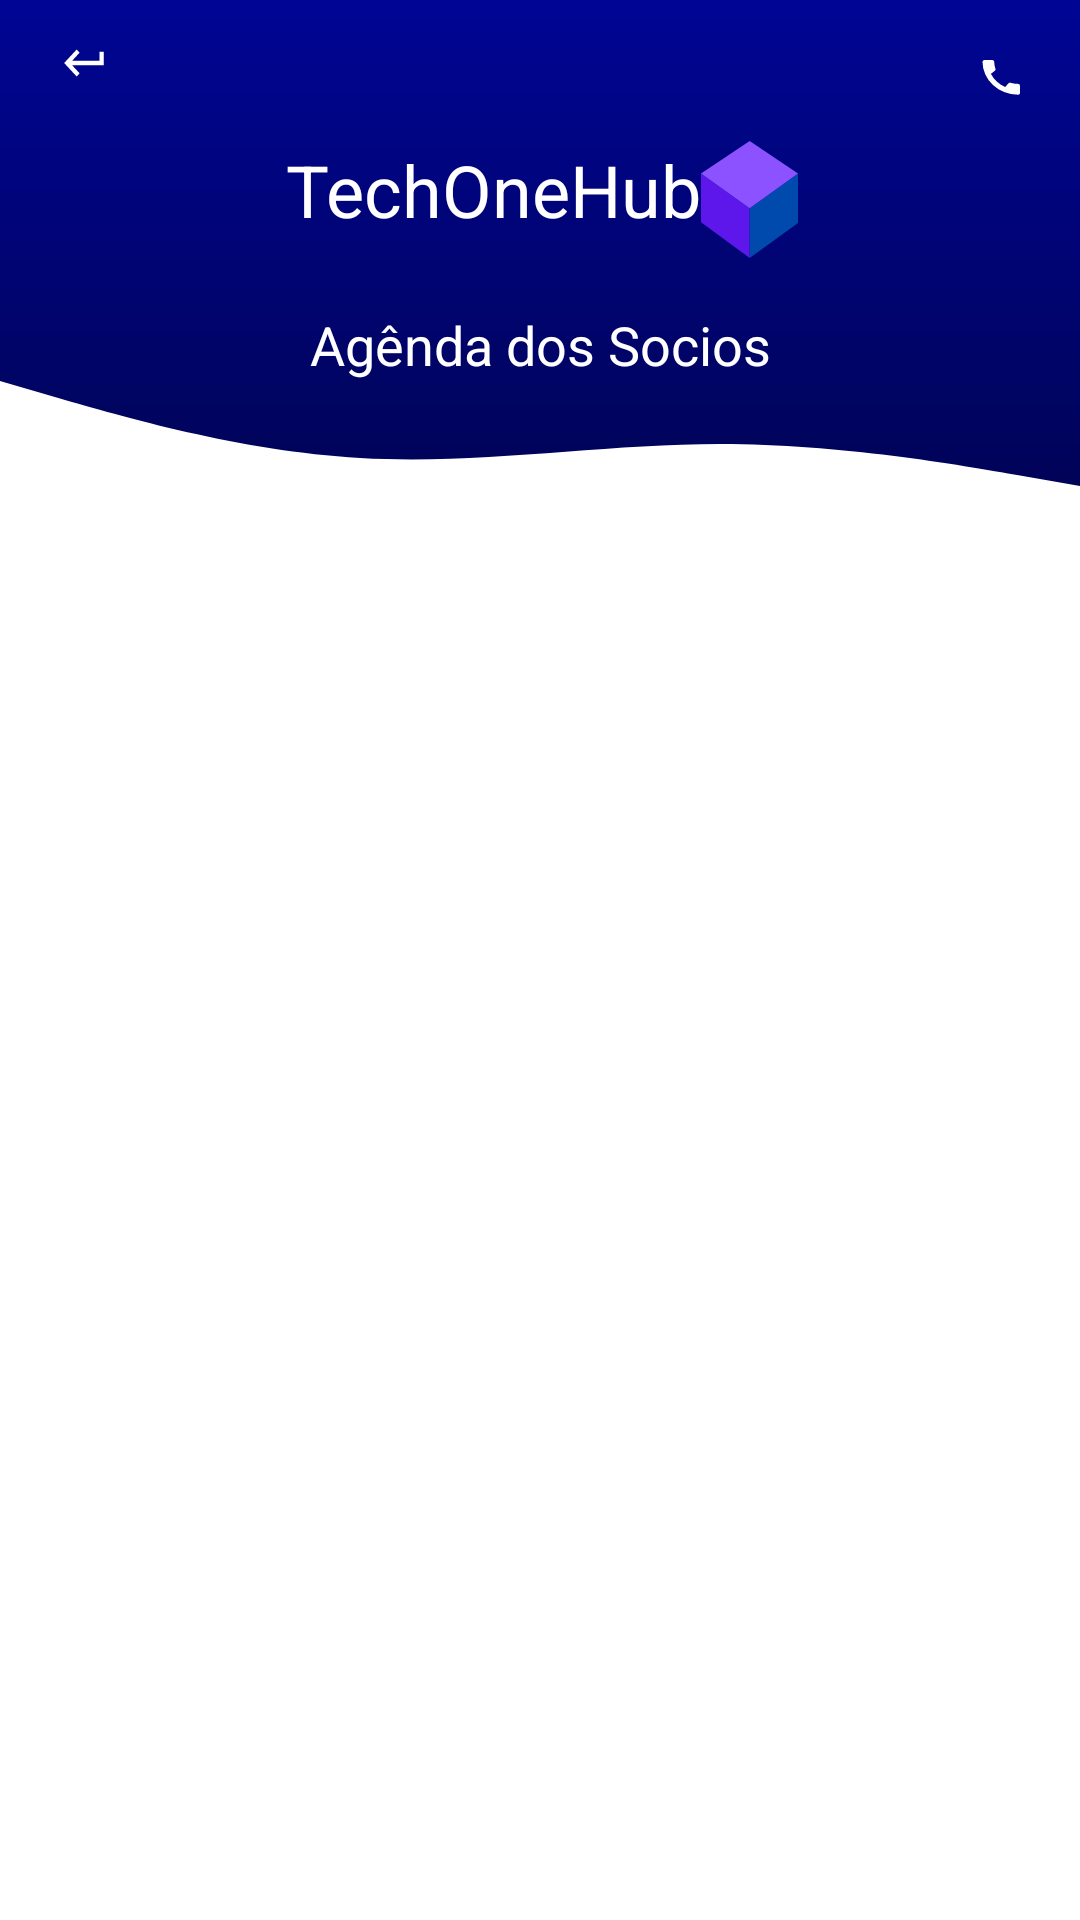

Named icons in this screenshot (1080x1920) and their bounding boxes, (x1, y1, x2, y2):
back: (64, 49, 104, 77)
call: (982, 60, 1020, 95)
